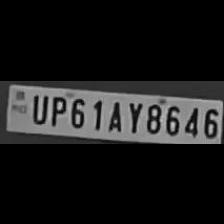1: (88, 96, 104, 130)
4: (182, 102, 198, 136)
6: (66, 94, 86, 128), (200, 103, 220, 137), (162, 100, 180, 134)
8: (142, 99, 162, 133)
A: (104, 96, 122, 130)
P: (48, 92, 66, 124)
U: (28, 90, 46, 124)
Y: (124, 98, 142, 132)
